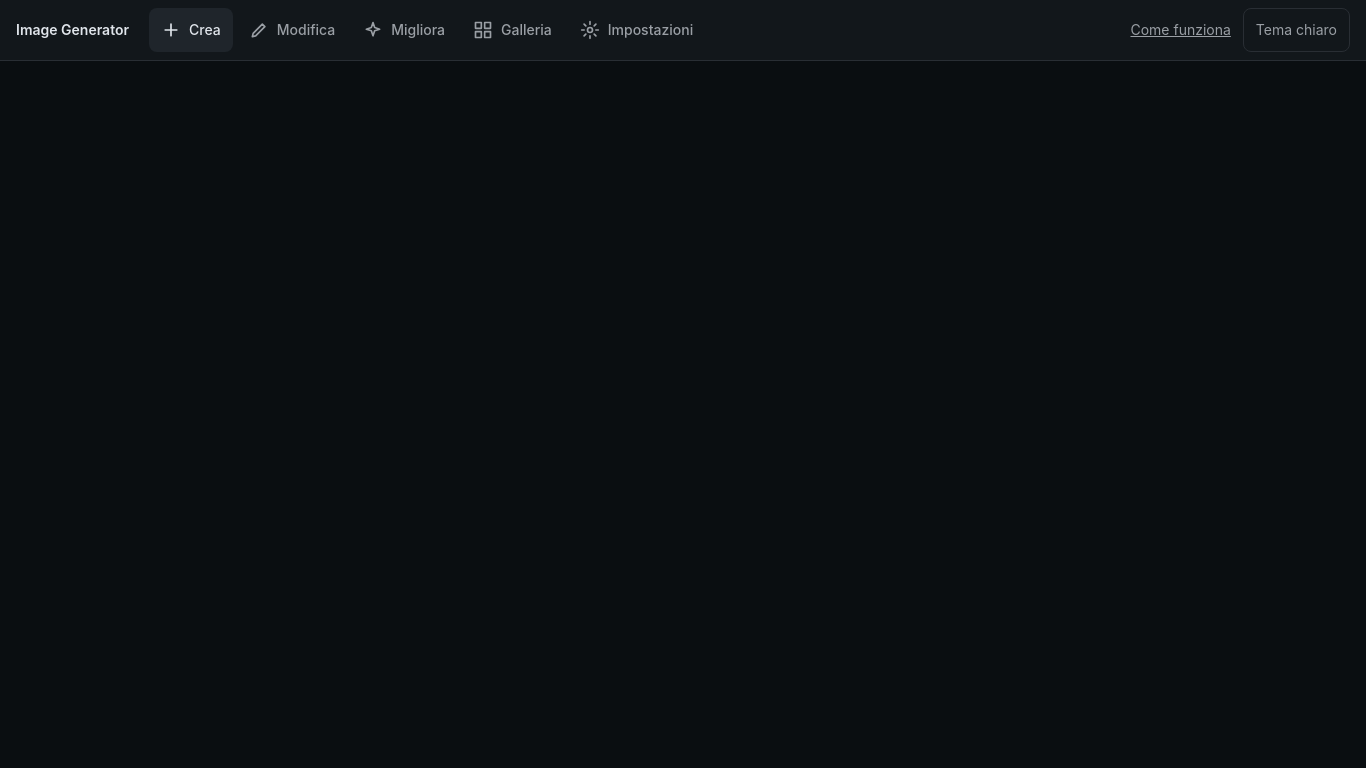
Test: NavBar › switches to offering the dark theme after the toggle is clicked
Step 1. Click the button with aria-label "Passa al tema chiaro" → {"x": 1296, "y": 30}, box [1243,8,1350,52]
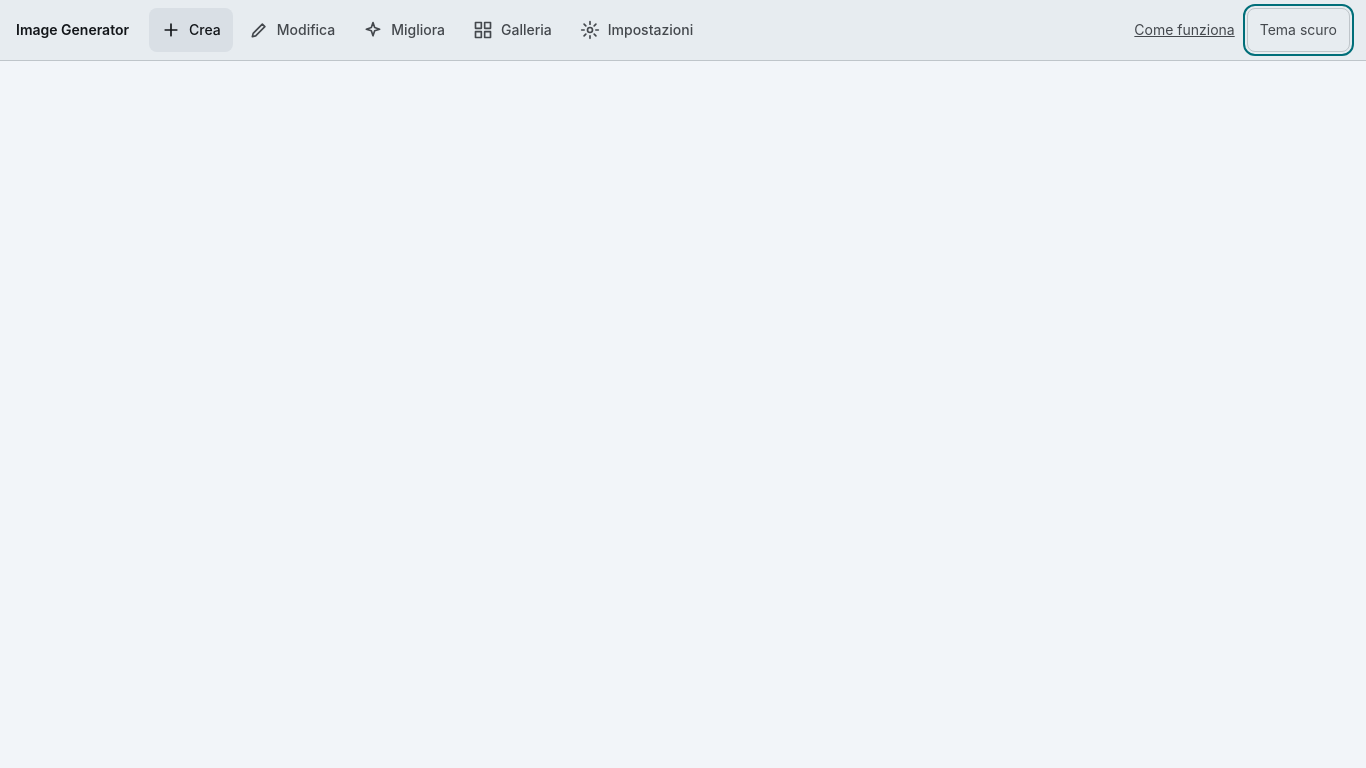
Check: the button with aria-label "Passa al tema scuro" reads "Tema scuro", box [1247,8,1350,52]
